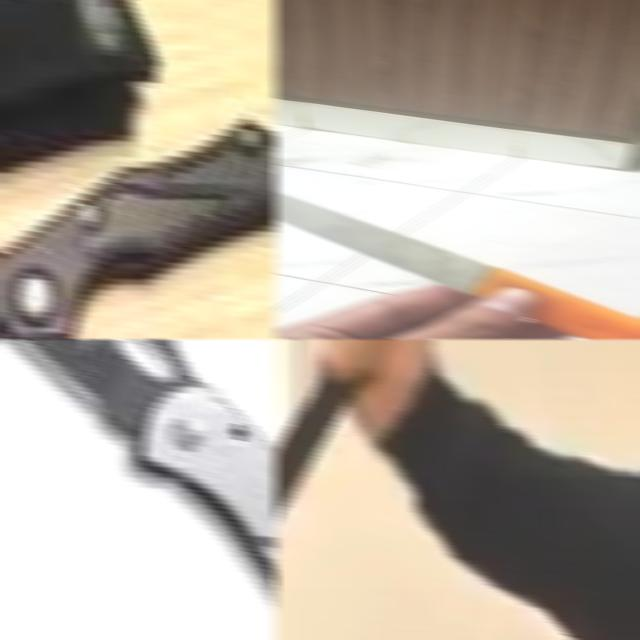Knife: (16, 338, 277, 588), (0, 120, 277, 340), (273, 191, 640, 340), (273, 372, 362, 618)
Knife_Handle: (273, 338, 419, 634)
